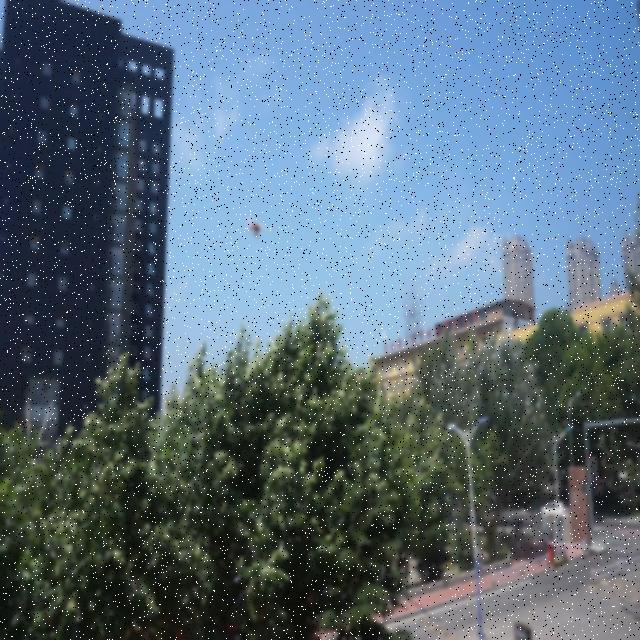UAV: (245, 217, 268, 239)
